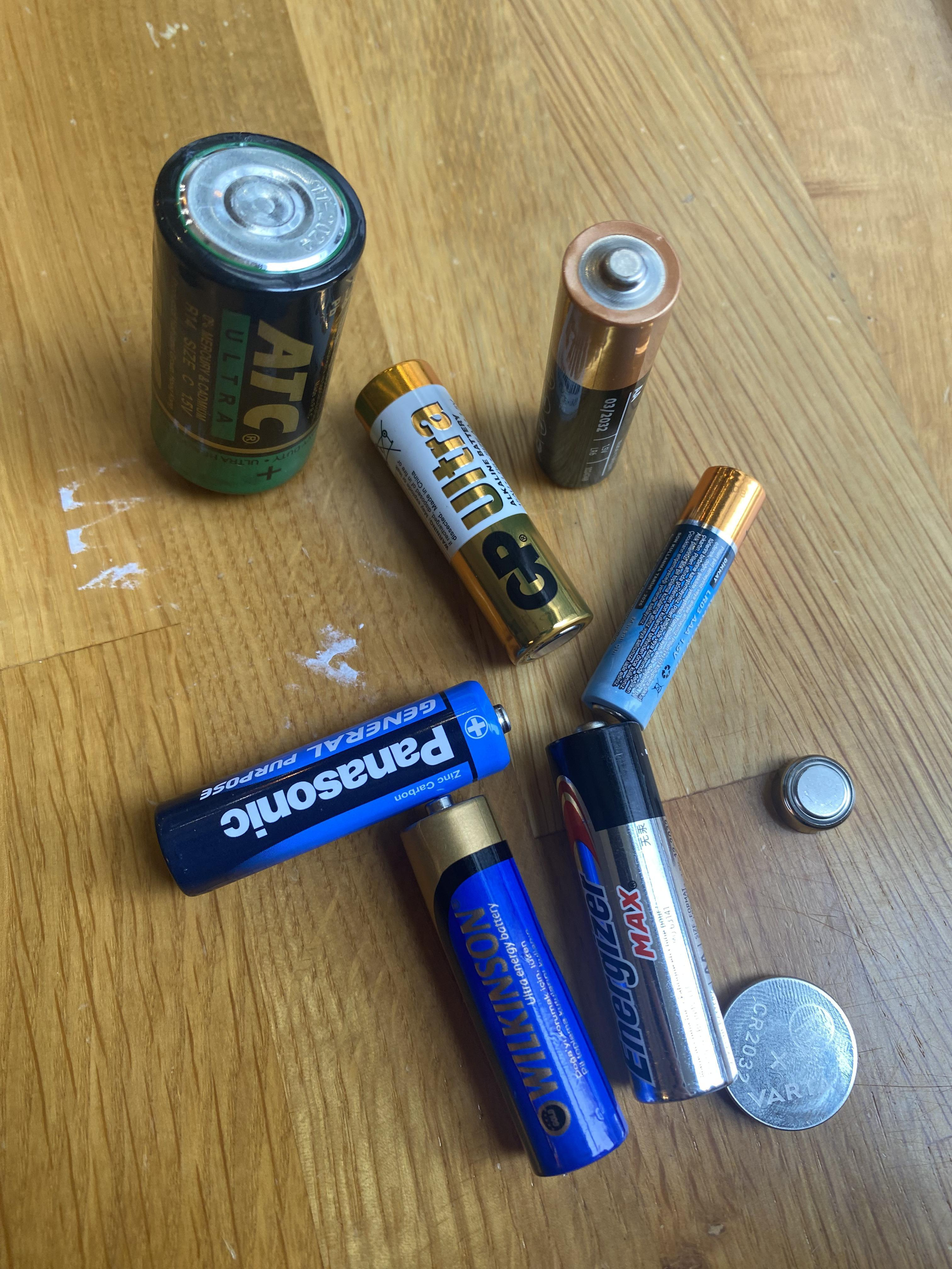AA: (393, 792, 633, 1176), (146, 124, 371, 500), (157, 673, 519, 903), (543, 714, 747, 1105), (349, 355, 594, 671), (579, 460, 773, 731), (529, 213, 687, 495)
COIN: (723, 972, 862, 1134), (772, 750, 858, 839)
